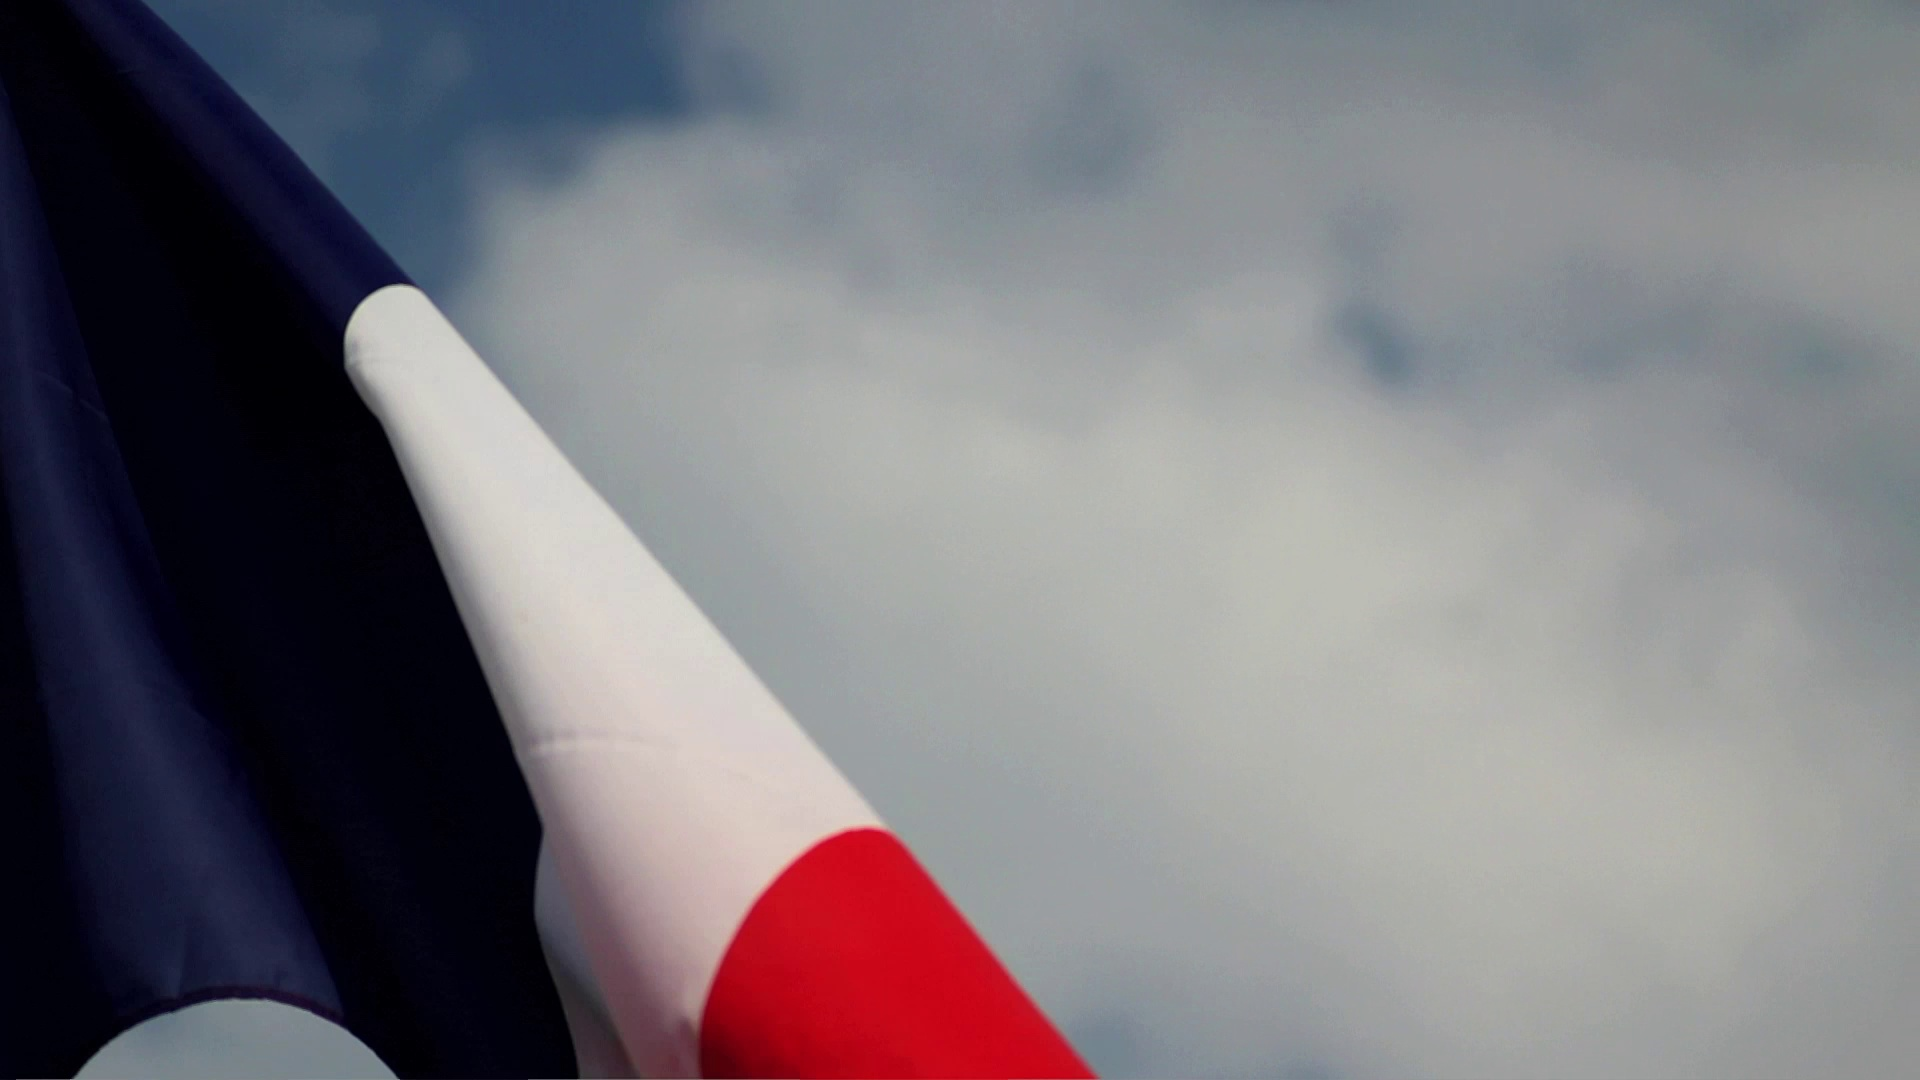French Flag: (1, 1, 1095, 1080)
